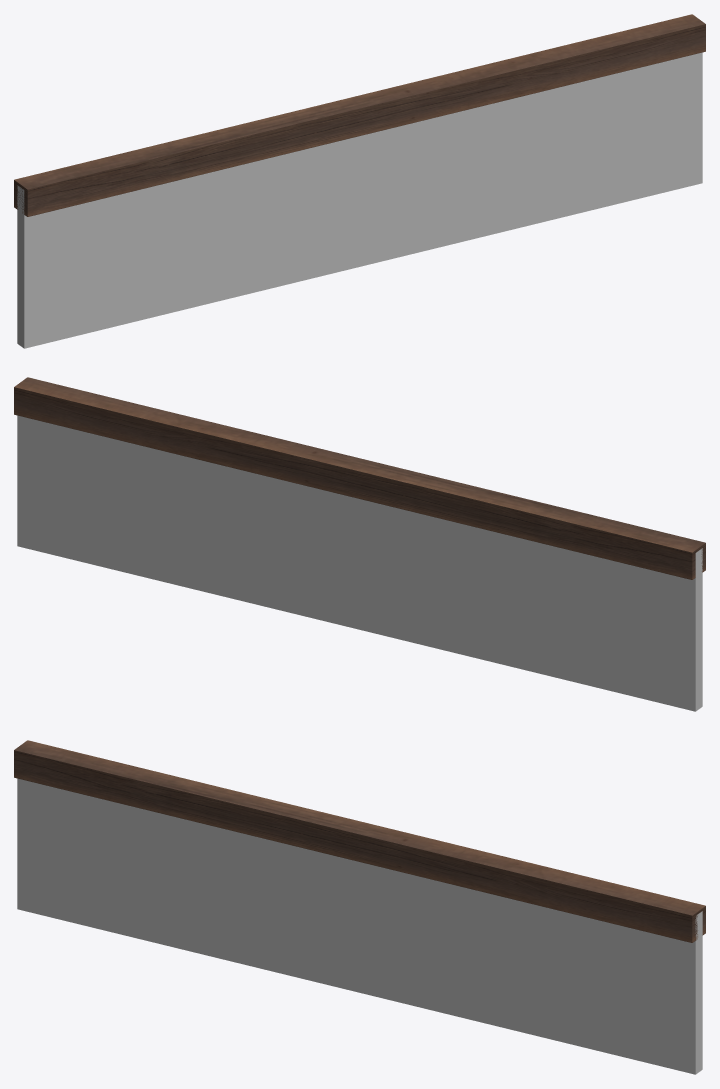
The model's file is jov_lowwall_2t01.fbx.
The picture shows the model from 3 angles, top to bottom: view 1: azimuth 30°, elevation 25°; view 2: azimuth 150°, elevation 25°; view 3: azimuth 330°, elevation 25°; orthographic projection.
Visible parts, largest first — view 1: jov_lowwall_2t01; view 2: jov_lowwall_2t01; view 3: jov_lowwall_2t01.
Boxes of the visible parts, bbox=[...] form: jov_lowwall_2t01: bbox=[14, 14, 705, 348]; jov_lowwall_2t01: bbox=[14, 377, 705, 711]; jov_lowwall_2t01: bbox=[14, 740, 705, 1074].
Bounding box in the file's own units: 440 × 100 × 15.26.
